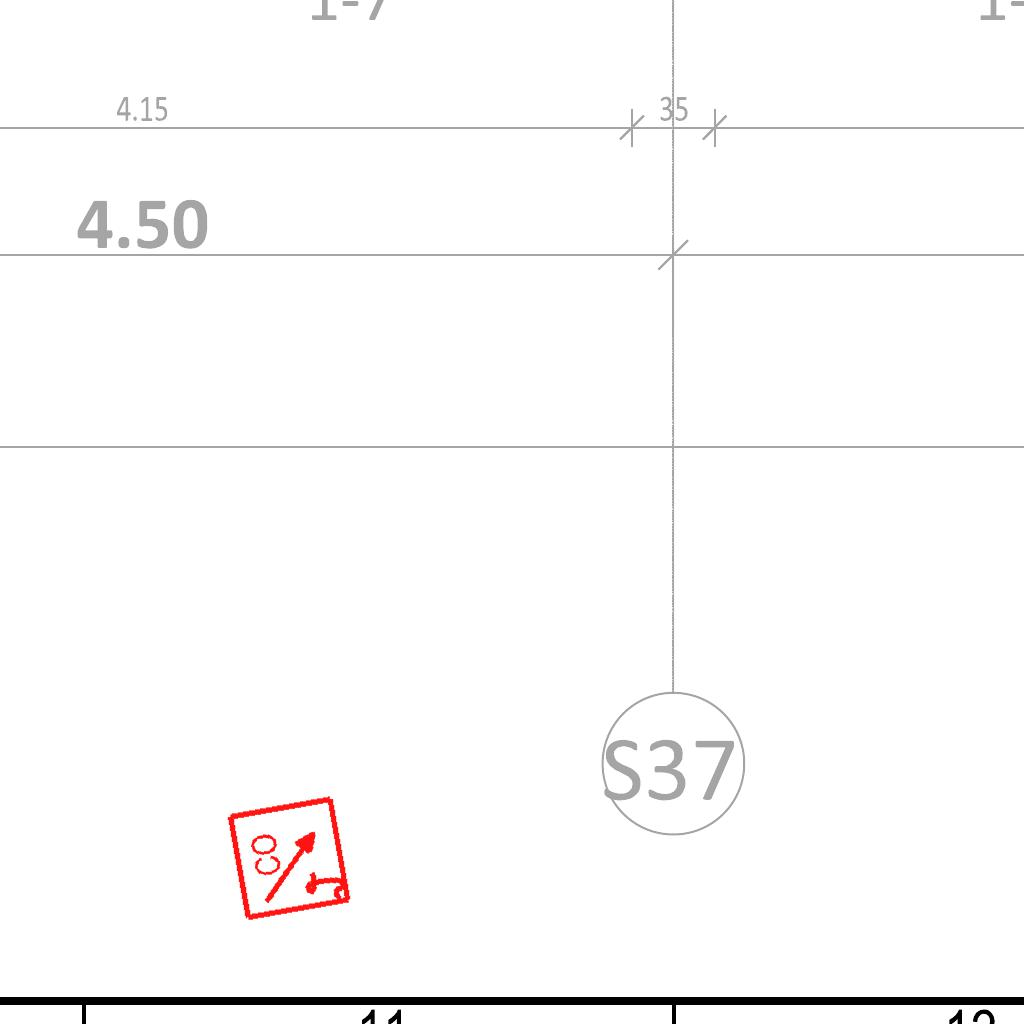ROA_Rauchmelder_optisch_mit_Signalgeber_(Sockelsirene): (225, 792, 356, 923)
